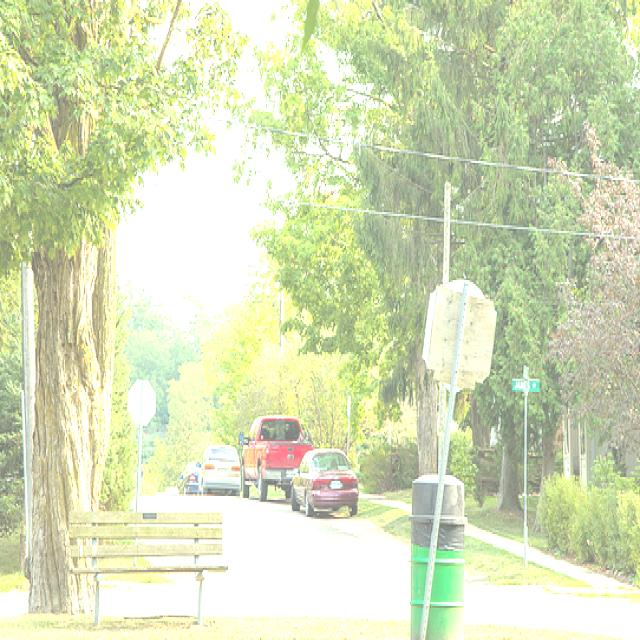Vehicle: (240, 414, 314, 502), (291, 448, 358, 518), (197, 443, 241, 497), (176, 462, 200, 496), (165, 489, 179, 496), (154, 492, 164, 497)
